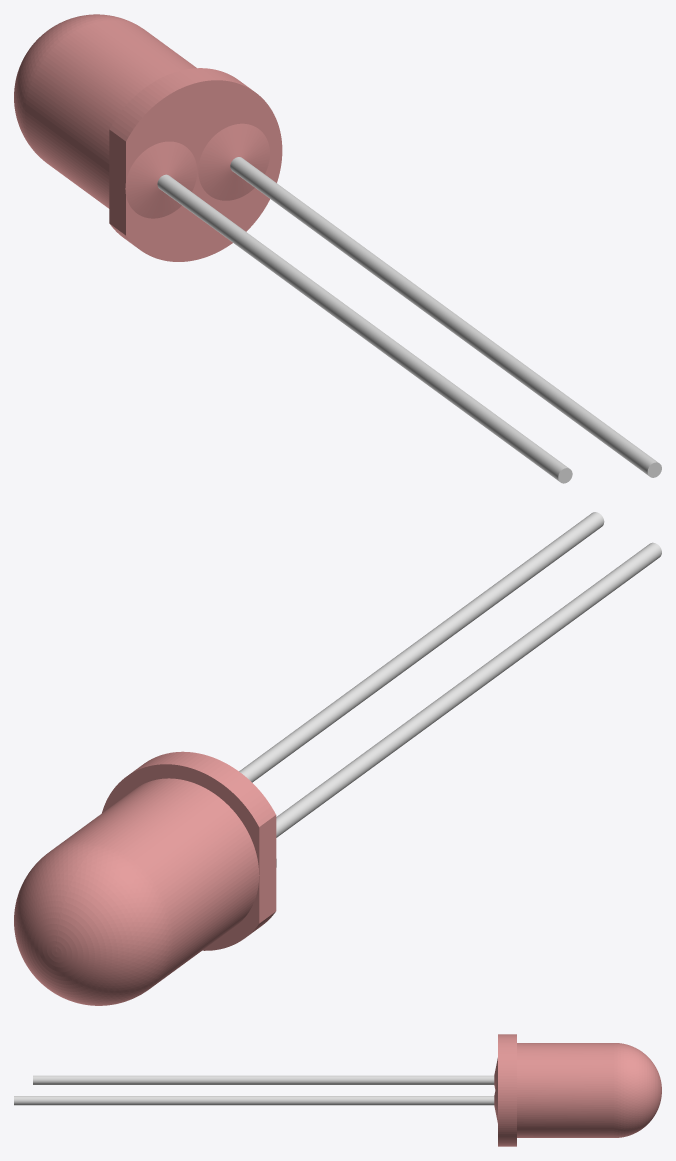
Rendered from 5mm_LED_Red.glb.
The picture shows the model from 3 angles, top to bottom: view 1: azimuth 30°, elevation 25°; view 2: azimuth 150°, elevation 25°; view 3: azimuth 270°, elevation 25°; orthographic projection. The views are drawn at different scales.
Visible parts, largest first — view 1: Node1, Node2; view 2: Node1, Node2; view 3: Node1, Node2.
Boxes of the visible parts, left/top/right/bottom form: Node1: left=14, top=14, right=282, bottom=261; Node2: left=157, top=157, right=661, bottom=483; Node1: left=14, top=751, right=276, bottom=1005; Node2: left=239, top=512, right=661, bottom=867; Node1: left=494, top=1034, right=661, bottom=1146; Node2: left=14, top=1075, right=494, bottom=1105.
Bounding box in the file's own units: 5.47 × 5.9 × 34.
